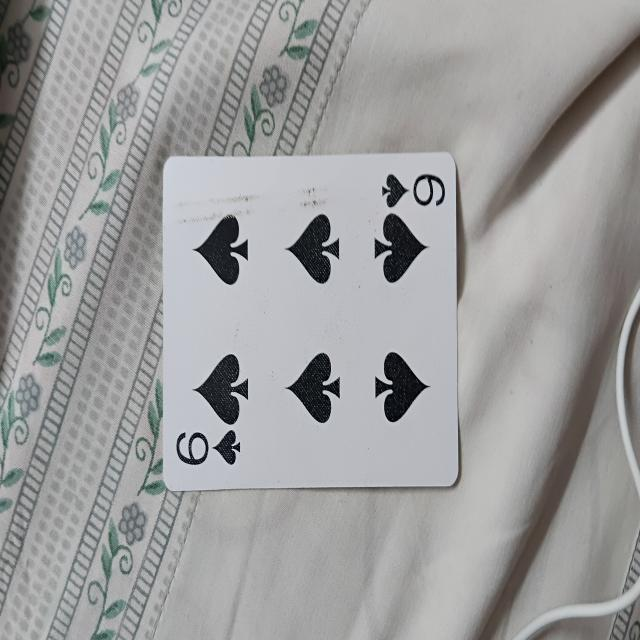6S: (166, 163, 456, 480)
